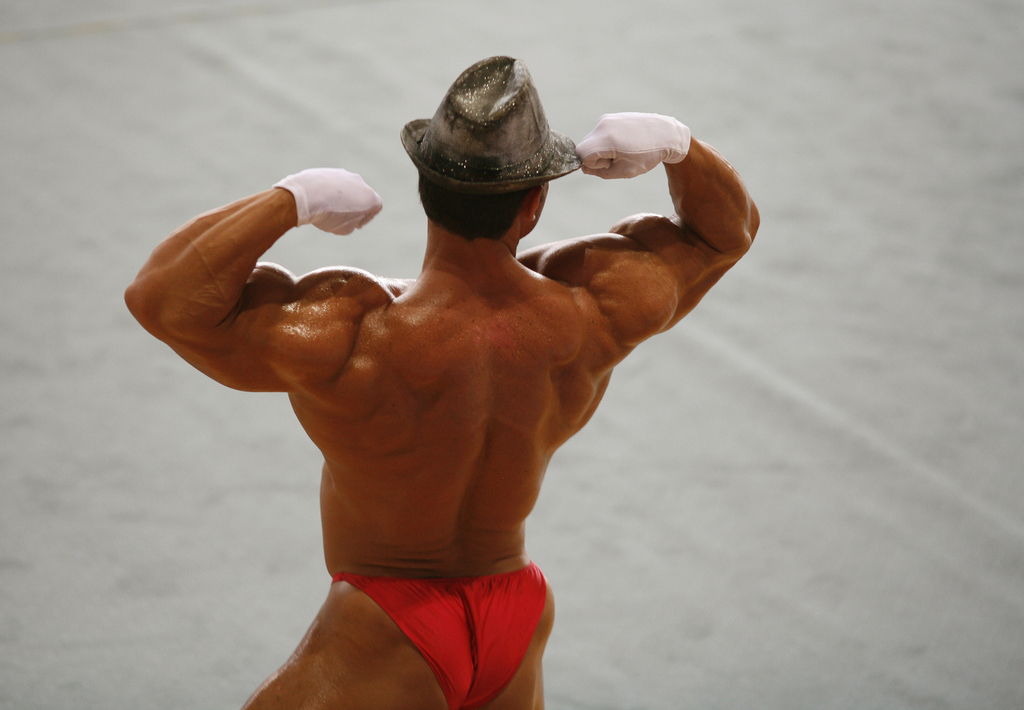Human_hand: (273, 164, 384, 236), (573, 111, 690, 176)
